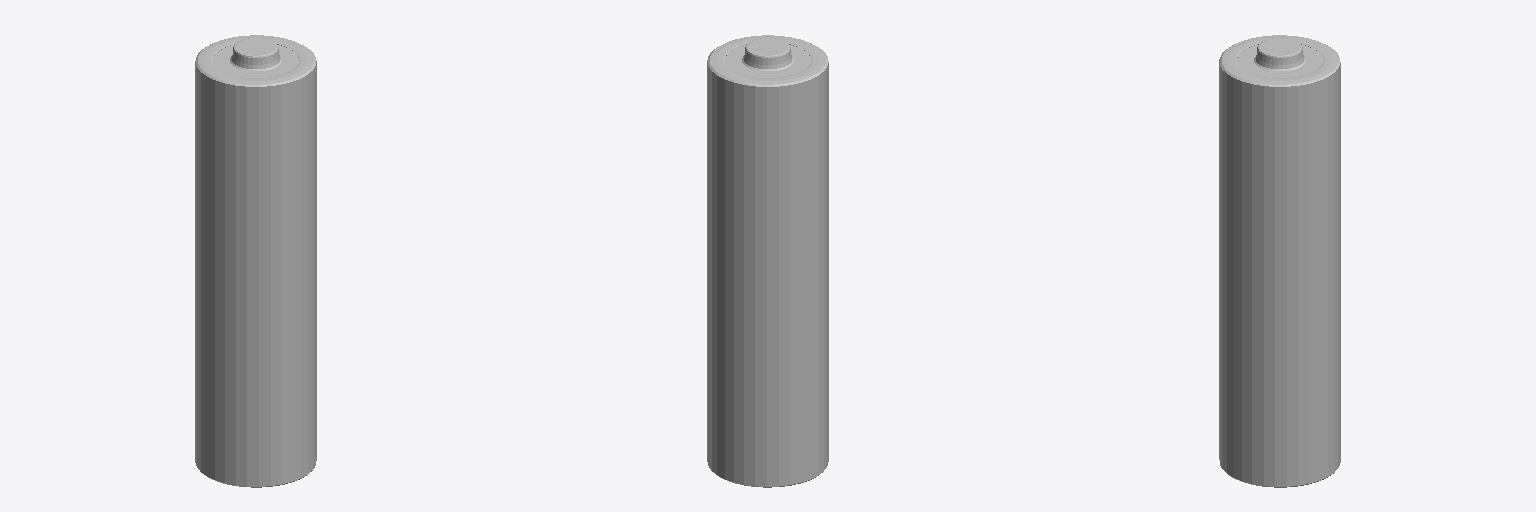
The model's file is pile.obj.
3 renders of one model, left to right at view 1: azimuth 30°, elevation 25°; view 2: azimuth 150°, elevation 25°; view 3: azimuth 270°, elevation 25°, orthographic.
Visible parts, largest first — view 1: Cylinder; view 2: Cylinder; view 3: Cylinder.
Boxes of the visible parts, x1=… form: Cylinder: x1=195, y1=35, x2=316, y2=487; Cylinder: x1=707, y1=35, x2=828, y2=487; Cylinder: x1=1219, y1=35, x2=1340, y2=487.
Bounding box in the file's own units: 0.2524 × 0.9623 × 0.2524.